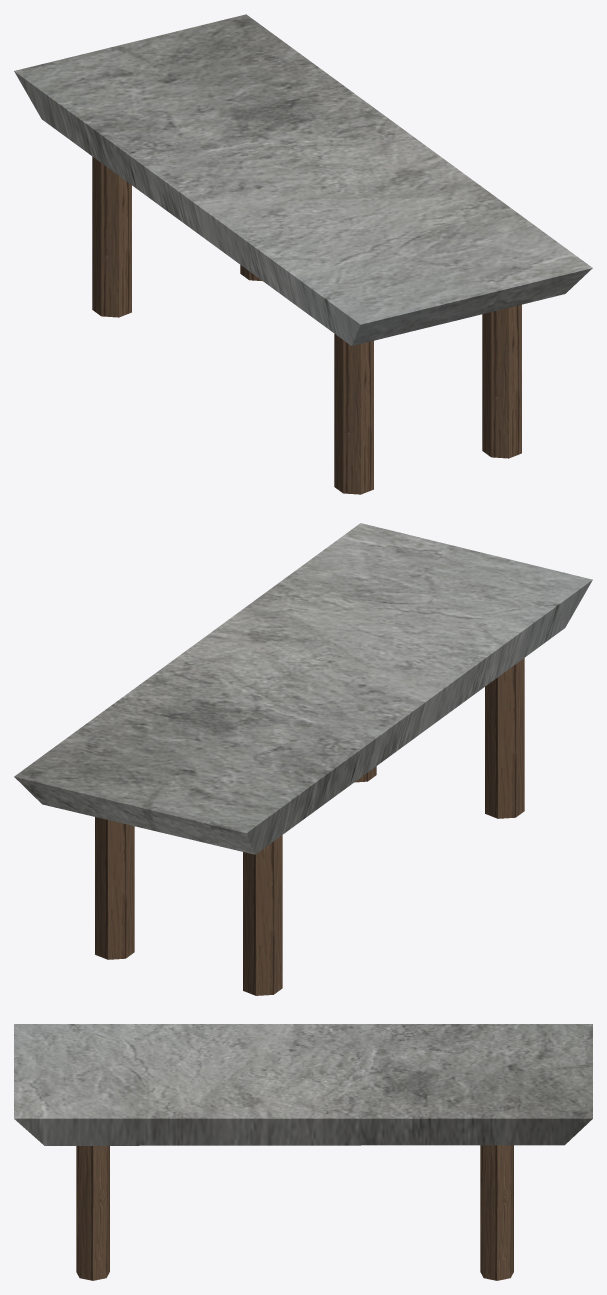
File: Table_F.fbx
3 renders of one model, top to bottom at view 1: azimuth 30°, elevation 25°; view 2: azimuth 150°, elevation 25°; view 3: azimuth 270°, elevation 25°, orthographic. The views are drawn at different scales.
Visible parts, largest first — view 1: pasted__Table; view 2: pasted__Table; view 3: pasted__Table.
Part boxes in pixels (<box>): pasted__Table: <box>14,14,592,494</box>; pasted__Table: <box>14,523,592,995</box>; pasted__Table: <box>14,1024,592,1280</box>.
Size of the model in its own units: 1.52 by 1.29 by 3.93.
